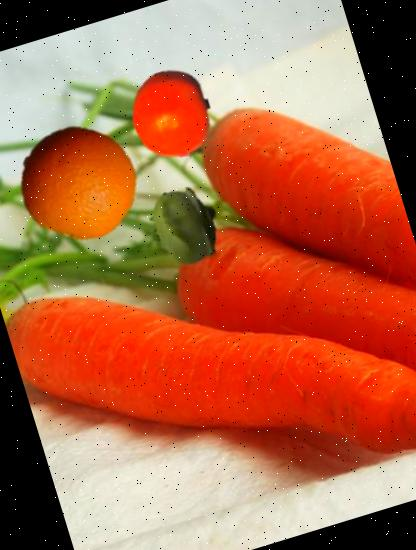Clementine: (116, 58, 228, 170)
Kohlrabi: (134, 176, 235, 276)
Orange: (6, 109, 152, 255)
